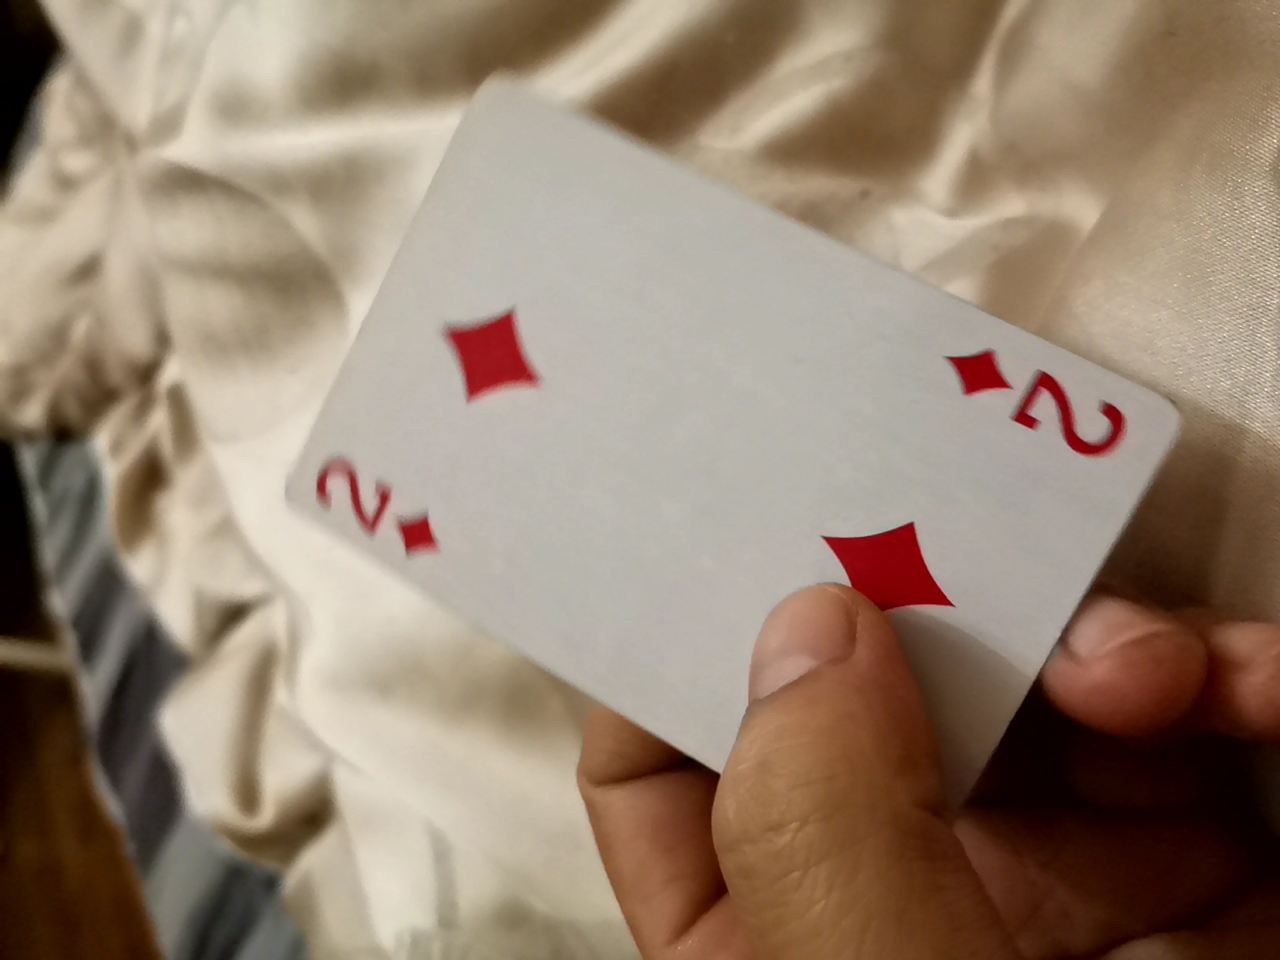fk 2: (222, 12, 1210, 847)
